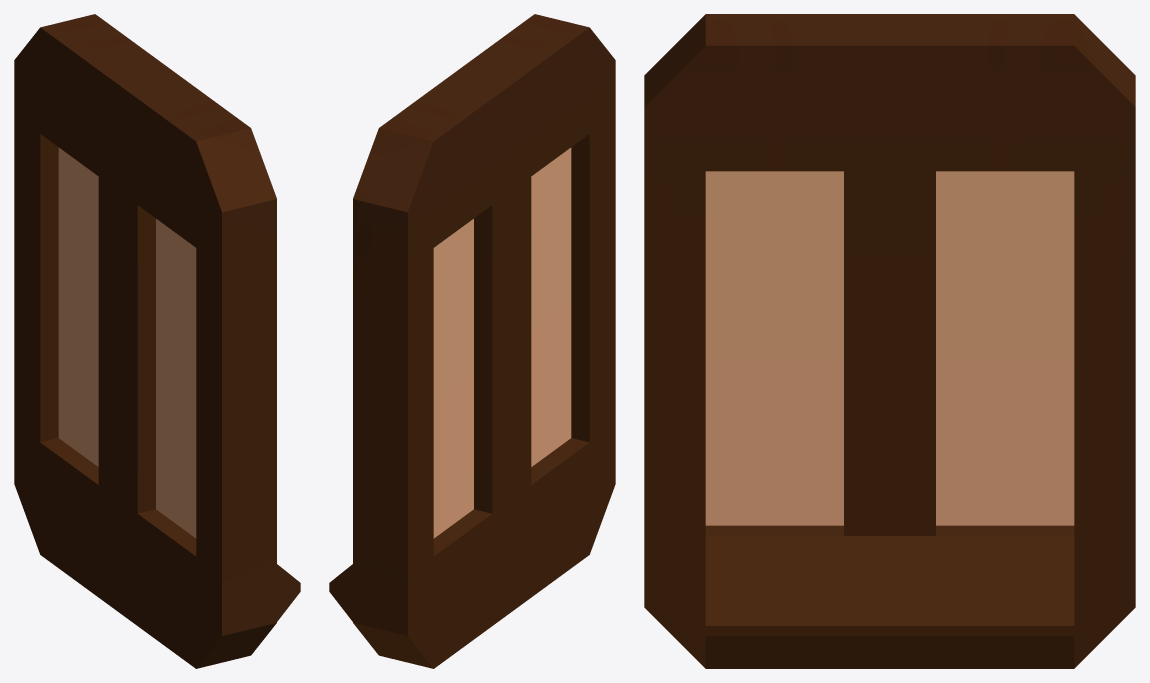
File: window.fbx
3 views of the same model, side by side, from view 1: azimuth 30°, elevation 25°; view 2: azimuth 150°, elevation 25°; view 3: azimuth 270°, elevation 25° (orthographic). The views are drawn at different scales.
Visible parts, largest first — view 1: Cube; view 2: Cube; view 3: Cube.
Part boxes in pixels (x1,y1,x2,y2): Cube: [14, 14, 300, 668]; Cube: [329, 14, 615, 668]; Cube: [644, 14, 1135, 668].
Size of the model in its own units: 211 by 1017 by 726.
